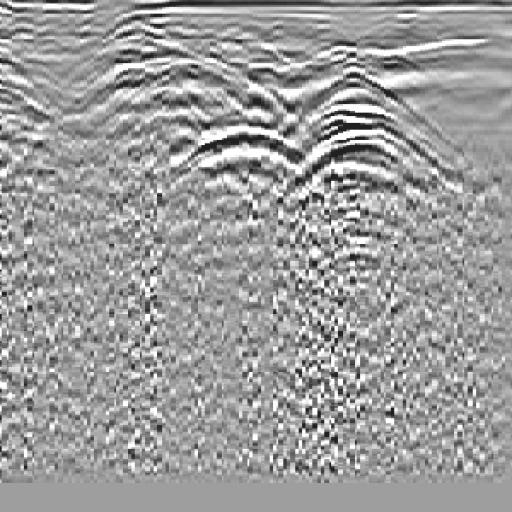metalic: (276, 34, 457, 235)
